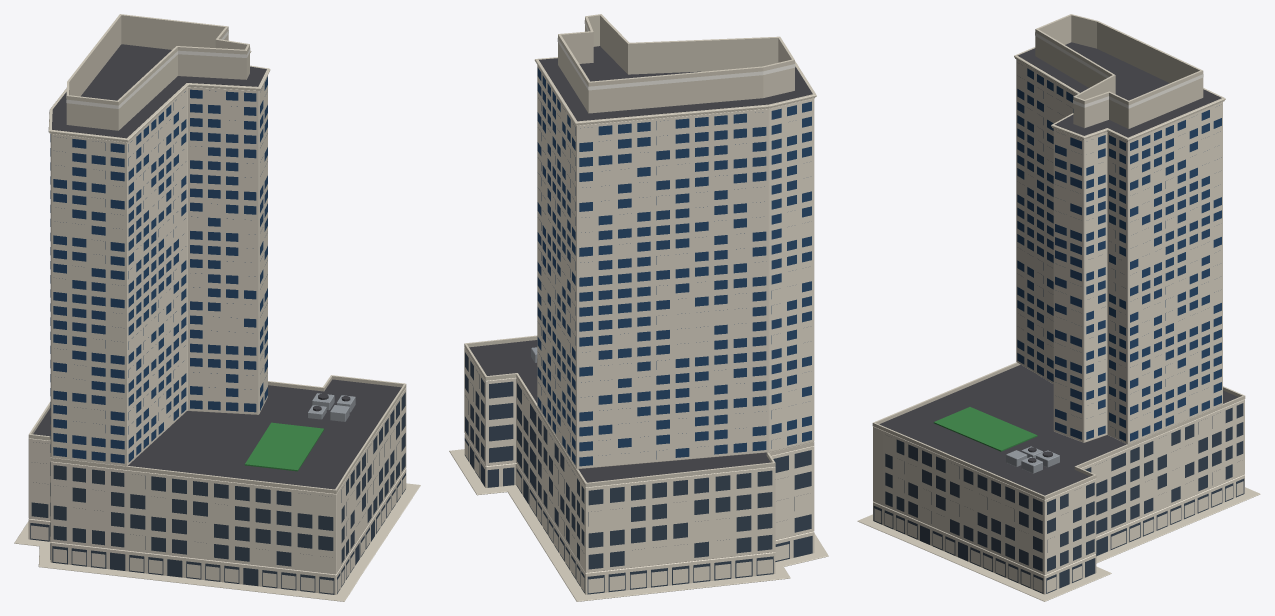
The model's file is 757-market-street.glb.
The picture shows the model from 3 angles, left to right: view 1: azimuth 30°, elevation 25°; view 2: azimuth 150°, elevation 25°; view 3: azimuth 270°, elevation 25°; orthographic projection. The views are drawn at different scales.
Visible parts, largest first — view 1: 757-market-street_body, 757-market-street_night_glow; view 2: 757-market-street_body, 757-market-street_night_glow; view 3: 757-market-street_body, 757-market-street_night_glow.
Boxes of the visible parts, bbox=[...] form: 757-market-street_body: bbox=[14, 14, 420, 601]; 757-market-street_night_glow: bbox=[31, 30, 405, 593]; 757-market-street_body: bbox=[449, 14, 828, 601]; 757-market-street_night_glow: bbox=[464, 20, 811, 593]; 757-market-street_body: bbox=[857, 14, 1260, 601]; 757-market-street_night_glow: bbox=[874, 32, 1243, 592].
Size of the model in its own units: 109 by 130 by 110.
